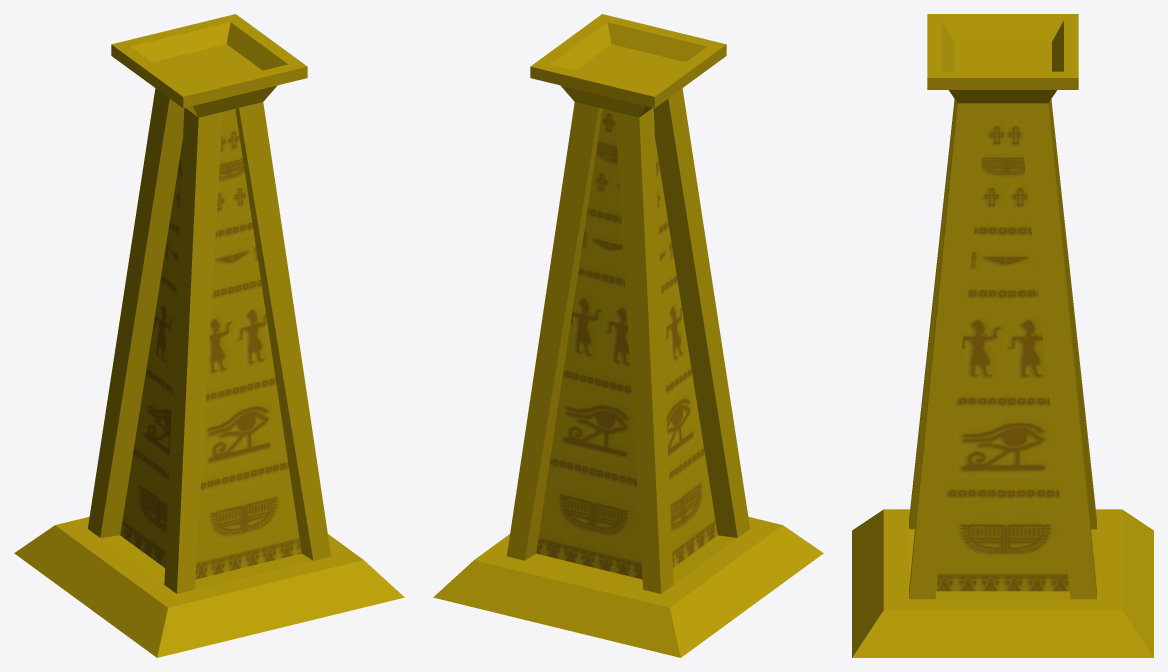
Rendered from Obelisk_Textured.fbx.
The picture shows the model from 3 angles, left to right: view 1: azimuth 30°, elevation 25°; view 2: azimuth 150°, elevation 25°; view 3: azimuth 270°, elevation 25°; orthographic projection. The views are drawn at different scales.
Parts seen in each view (by area): view 1: Obelisk; view 2: Obelisk; view 3: Obelisk.
Part boxes in pixels (x1,y1,x2,y2): Obelisk: (14, 14, 404, 657); Obelisk: (433, 14, 823, 657); Obelisk: (852, 14, 1153, 657).
Bounding box in the file's own units: 1.88 × 3.77 × 1.88.
